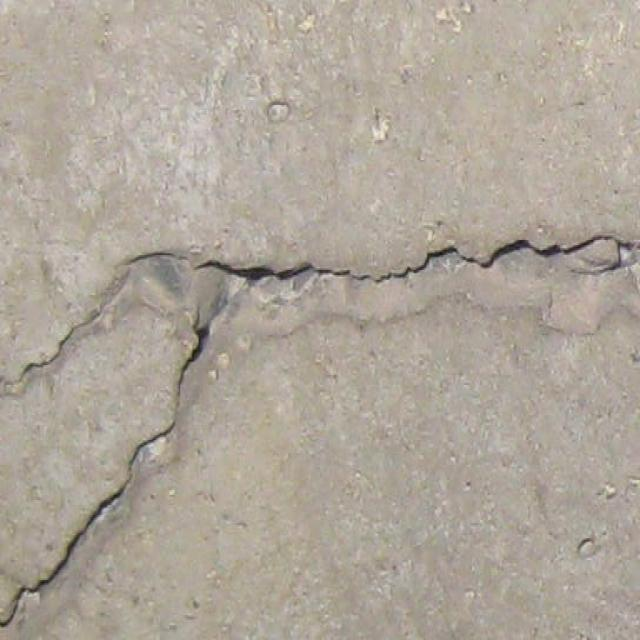Annular: (577, 225, 638, 294)
Network: (6, 218, 281, 640)
Transverse: (286, 231, 571, 296)
